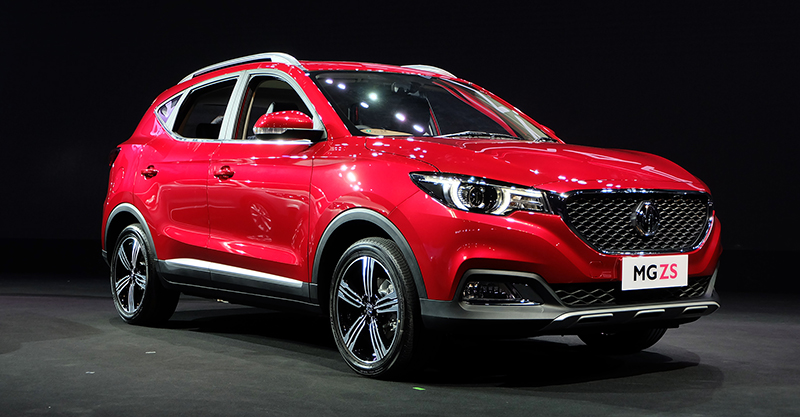pickup: (96, 54, 727, 378)
